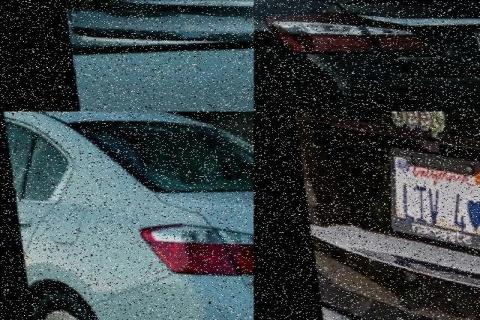LicensePlate: (377, 148, 480, 250), (164, 0, 253, 26)
